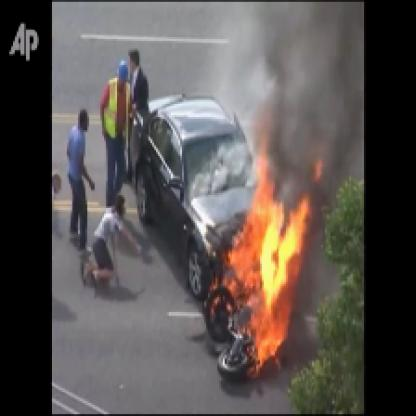Fire: (208, 134, 308, 380)
Smoke: (252, 4, 356, 178)
